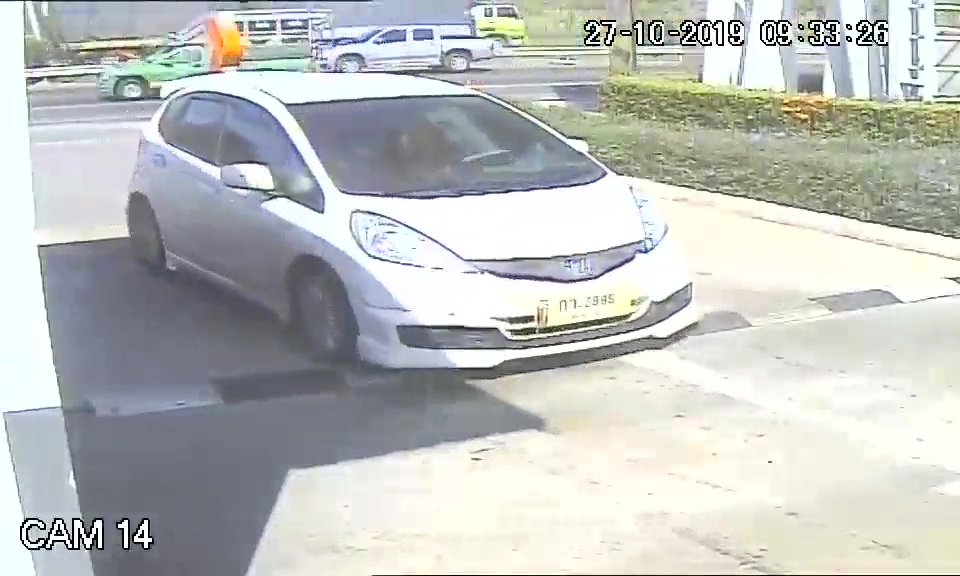sedan: (120, 72, 708, 372)
